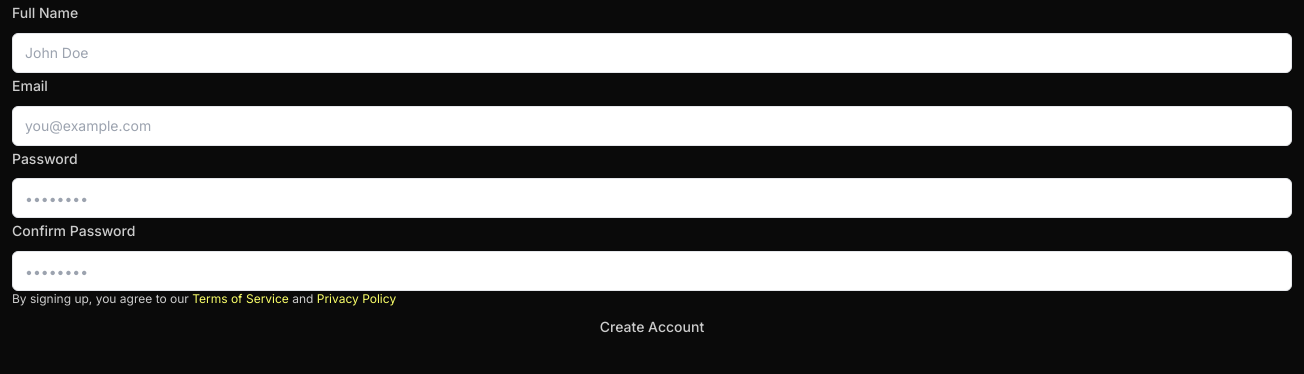
Test: SignUpForm inline validation (#162) › explains a password confirmation that does not match
Type "Ada Lovelace" into the field labelled "Full Name" at (652,53), box [12,33,1292,73]
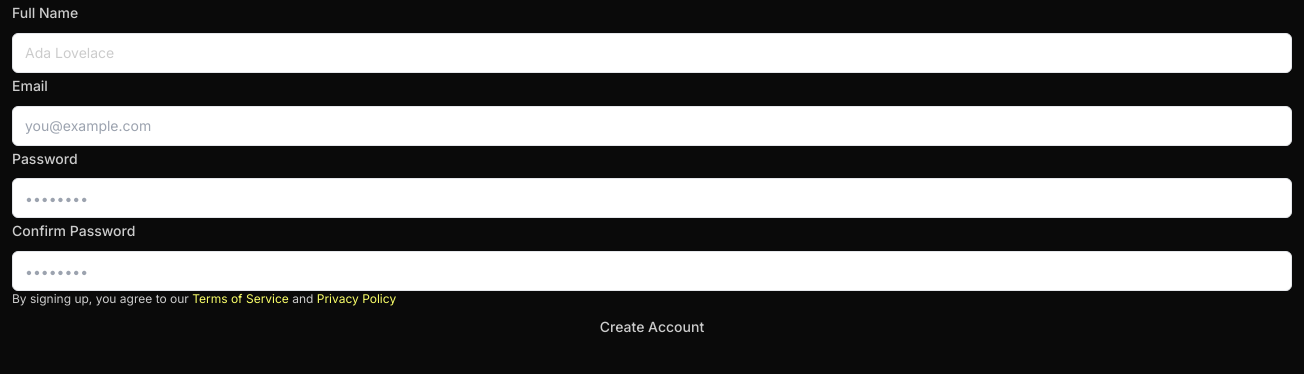
Type "ada@example.com" into the field labelled "Email" at (652,126), box [12,106,1292,146]
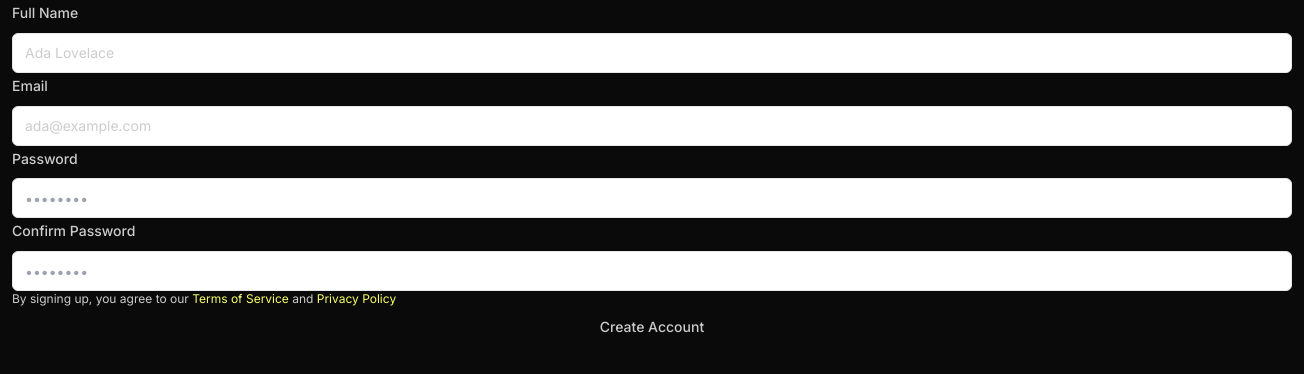
Type "Str0ngPassphrase" into the password field labelled "Password" at (652,198), box [12,178,1292,218]
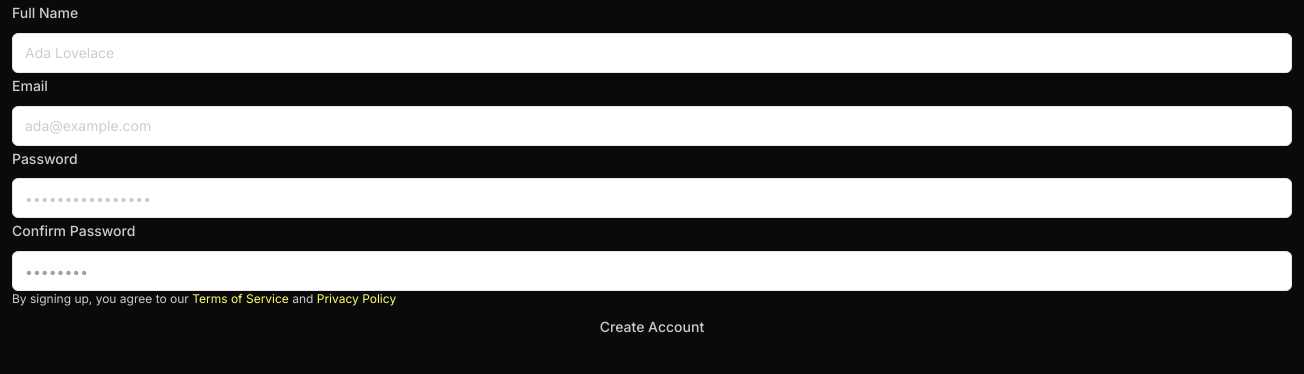
Type "DifferentPassphrase" into the password field labelled "Confirm Password" at (652,271), box [12,251,1292,291]
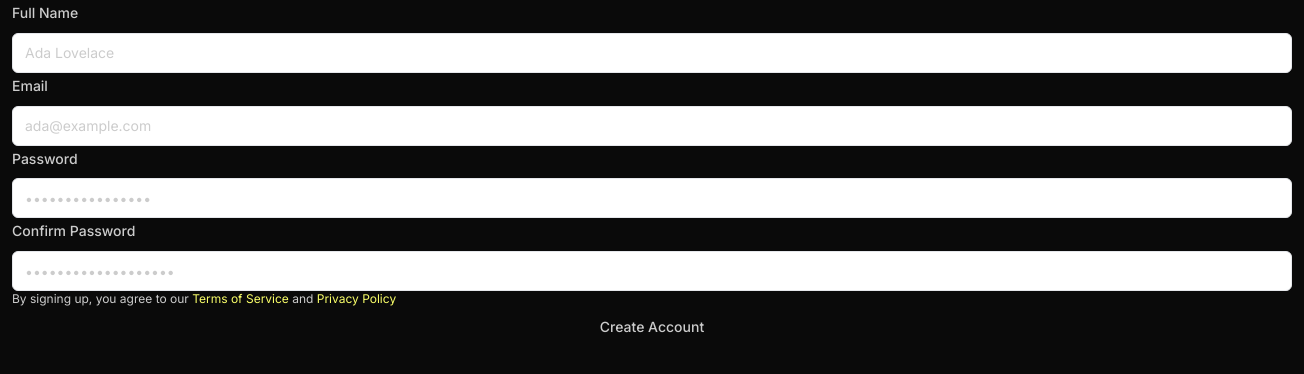
Submit the form
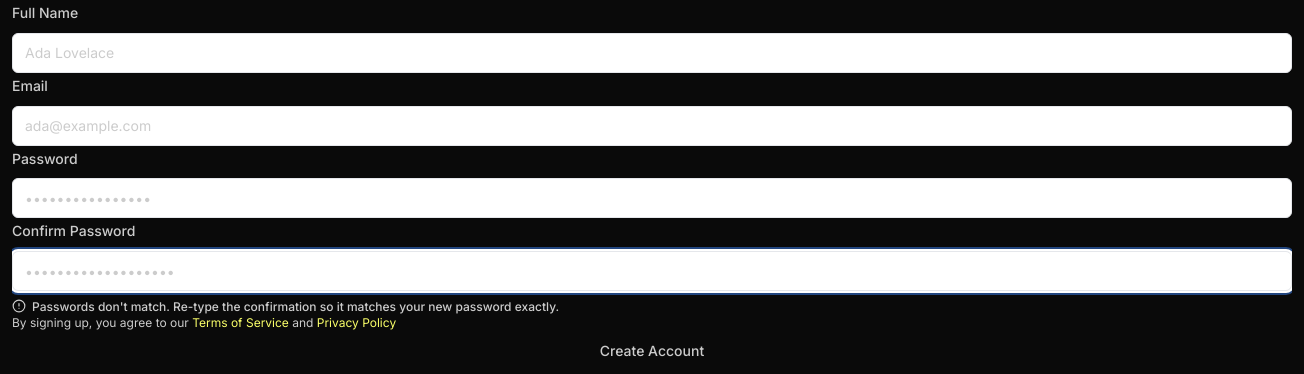
Expected: the number of messages is 1, [12,299,559,314]
Expected: the message shows "Passwords don't match. Re-type the confirmation so it matches your new password exactly.", [32,299,559,314]
